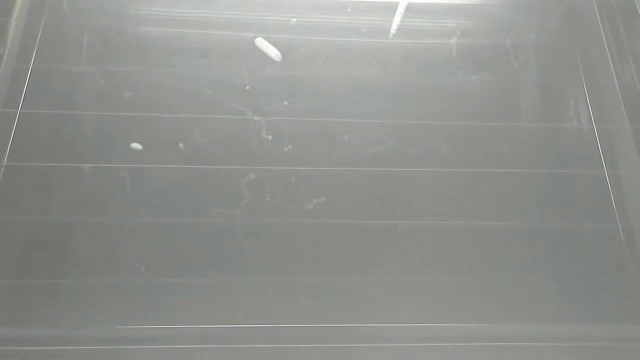alpha: (252, 33, 284, 65), (387, 1, 411, 42), (127, 139, 143, 153)
